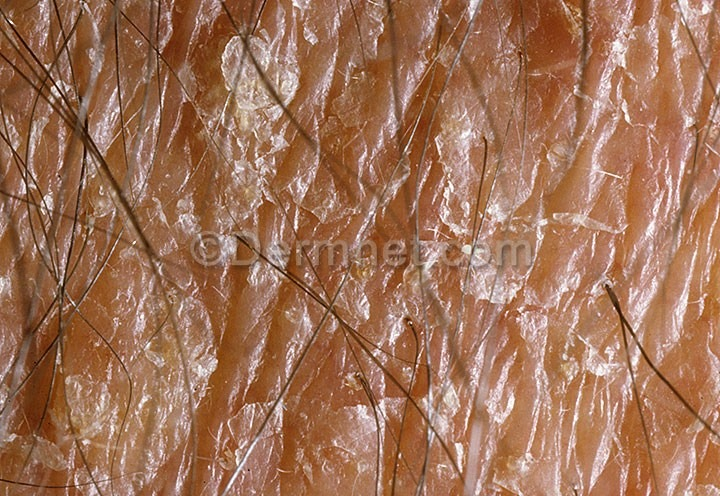Psoriasis: (22, 23, 685, 486)
